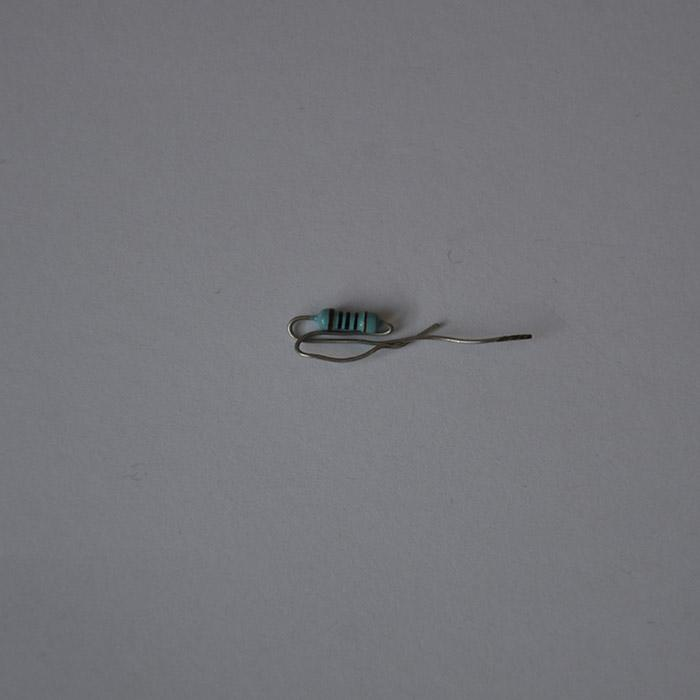resistor: (306, 307, 385, 334)
